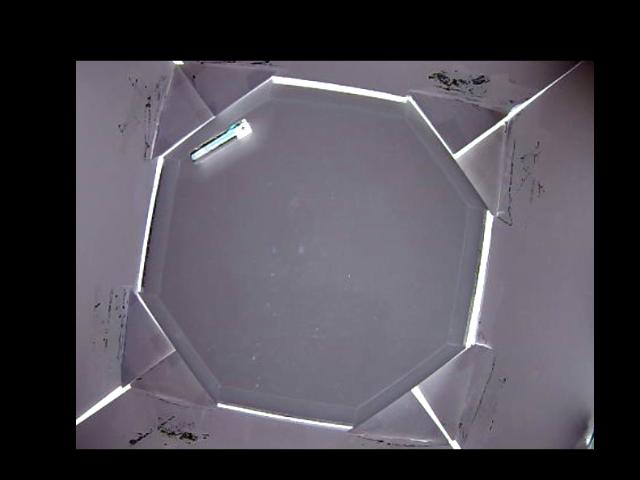Battery: (190, 117, 253, 161)
